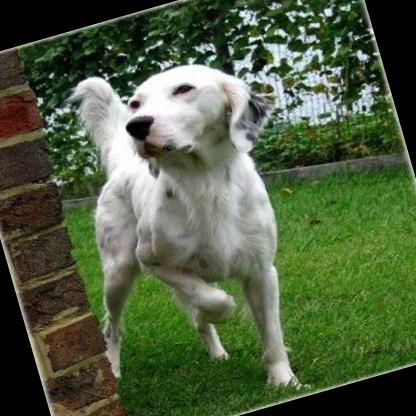English_setter: (32, 31, 340, 416)
